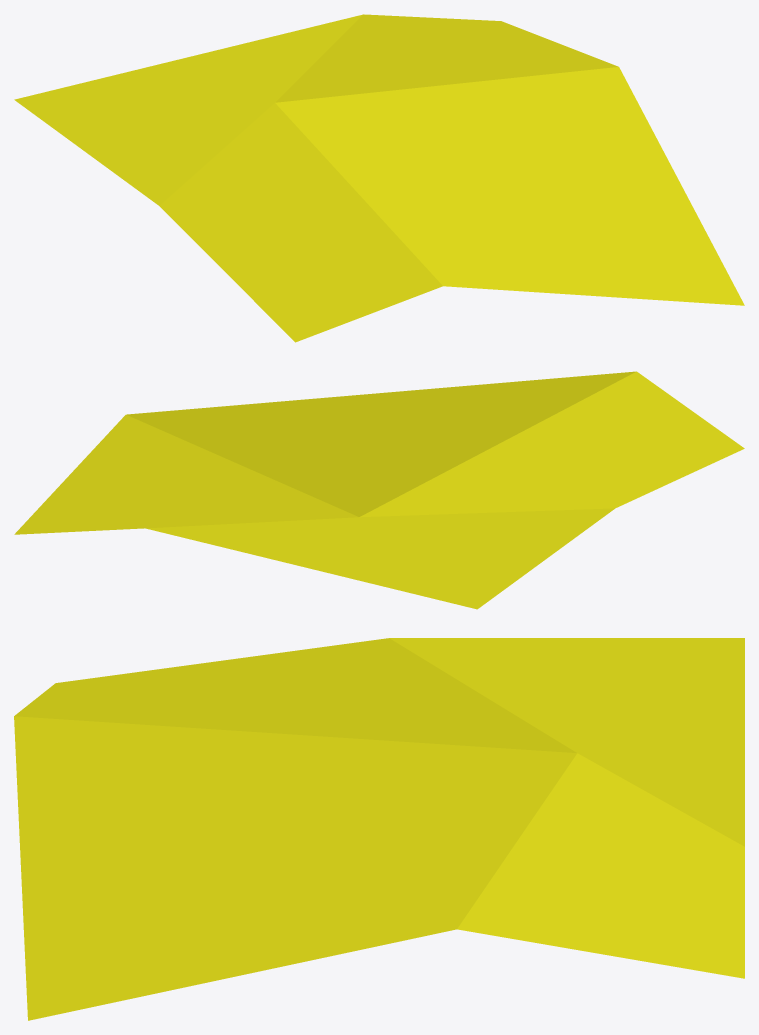
Rendered from queso.glb.
The picture shows the model from 3 angles, top to bottom: view 1: azimuth 30°, elevation 25°; view 2: azimuth 150°, elevation 25°; view 3: azimuth 270°, elevation 25°; orthographic projection. The views are drawn at different scales.
Parts seen in each view (by area): view 1: queso.002; view 2: queso.002; view 3: queso.002.
Part boxes in pixels (x1,y1,x2,y2): queso.002: (14,14,744,342); queso.002: (14,371,744,609); queso.002: (14,638,744,1020).
Bounding box in the file's own units: 1 × 0.1935 × 1.06.
